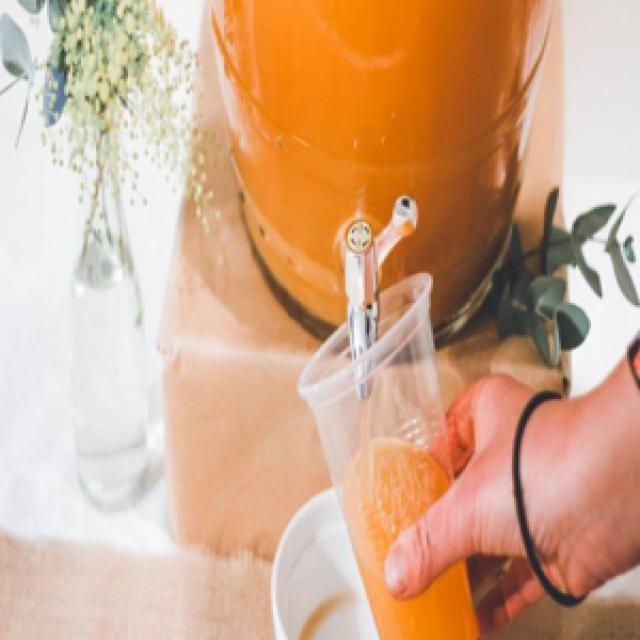plastic cup: (292, 266, 484, 640)
